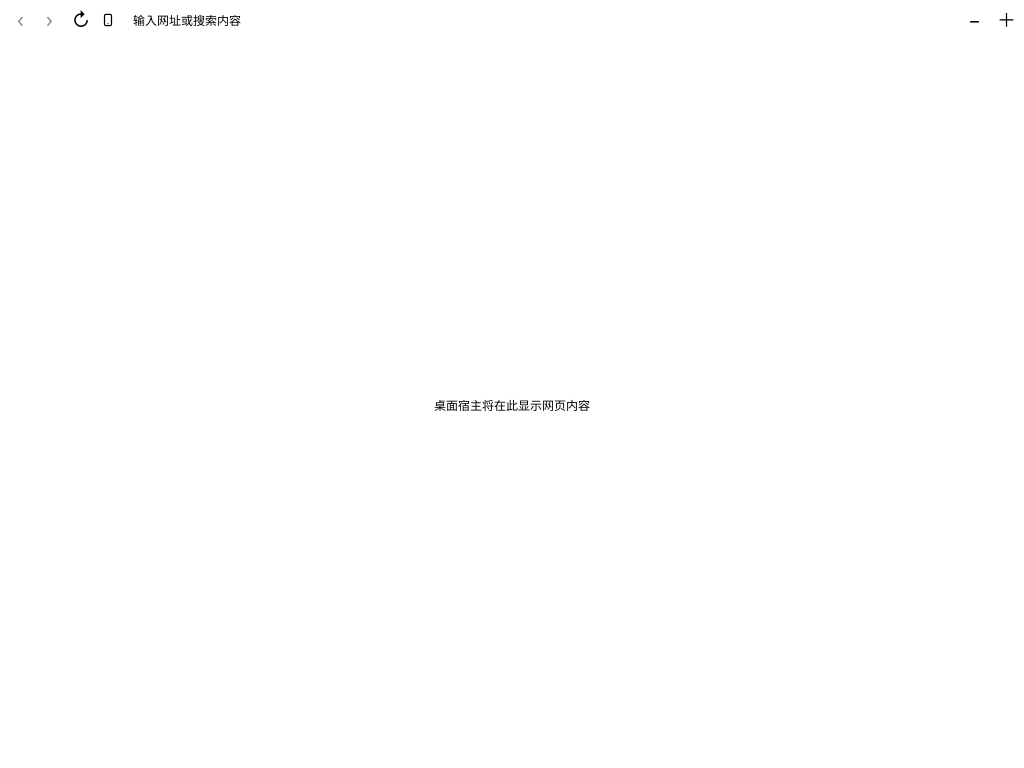
Scenario: BrowserPanel › dismisses a floating operation error and re-shows it when the failure re-occurs
Click the button named "刷新" at {"x": 78, "y": 20}, box x1=66 y1=8 x2=91 y2=33
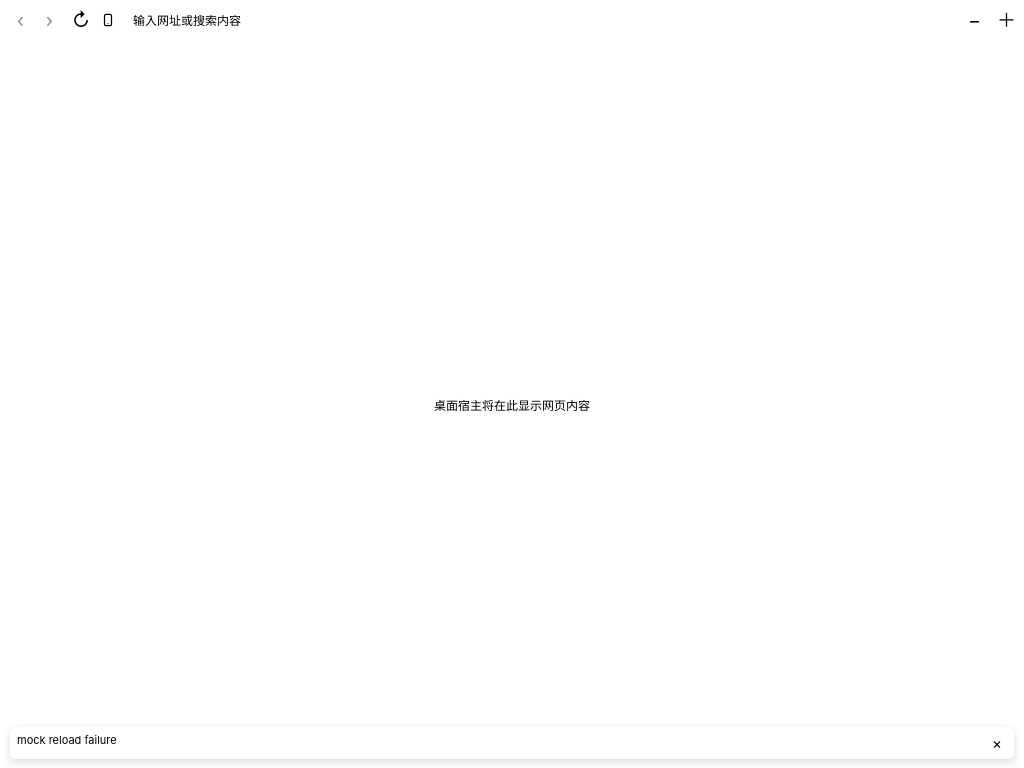
Result: the message shows "mock reload failure" at x1=17 y1=733 x2=117 y2=747
Result: the button named "关闭错误提示" is shown
Click the button named "关闭错误提示" at {"x": 997, "y": 743}, box x1=987 y1=733 x2=1007 y2=753
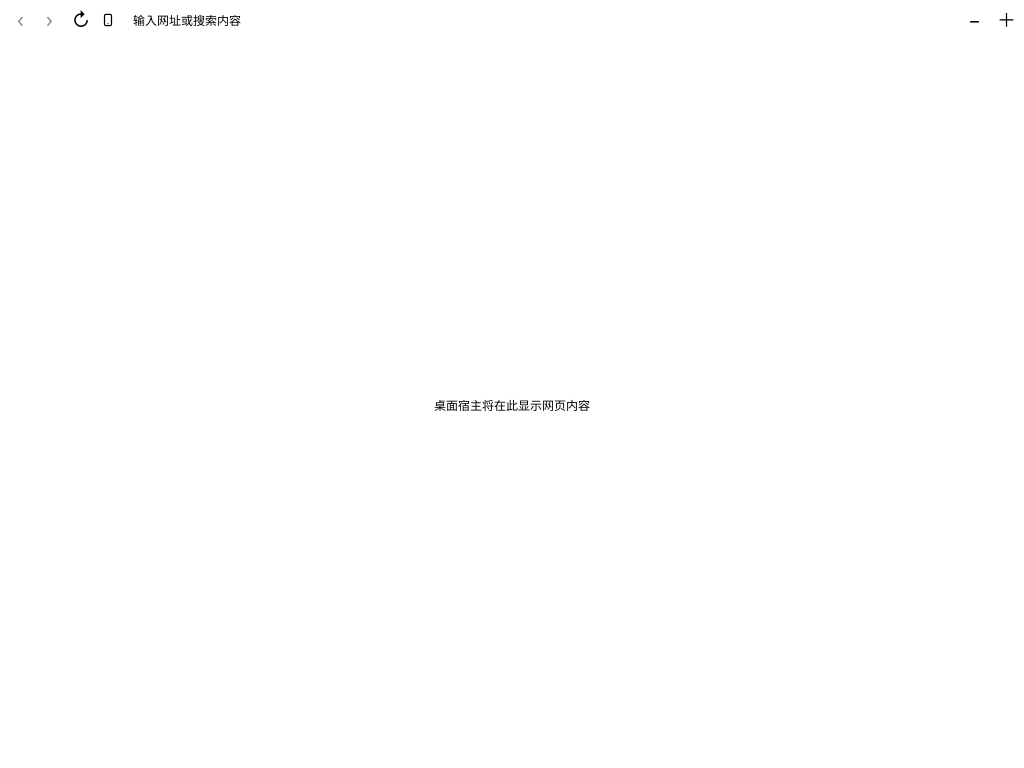
Result: the message "mock reload failure ×" is gone
Click the button named "刷新" at {"x": 78, "y": 20}, box x1=66 y1=8 x2=91 y2=33
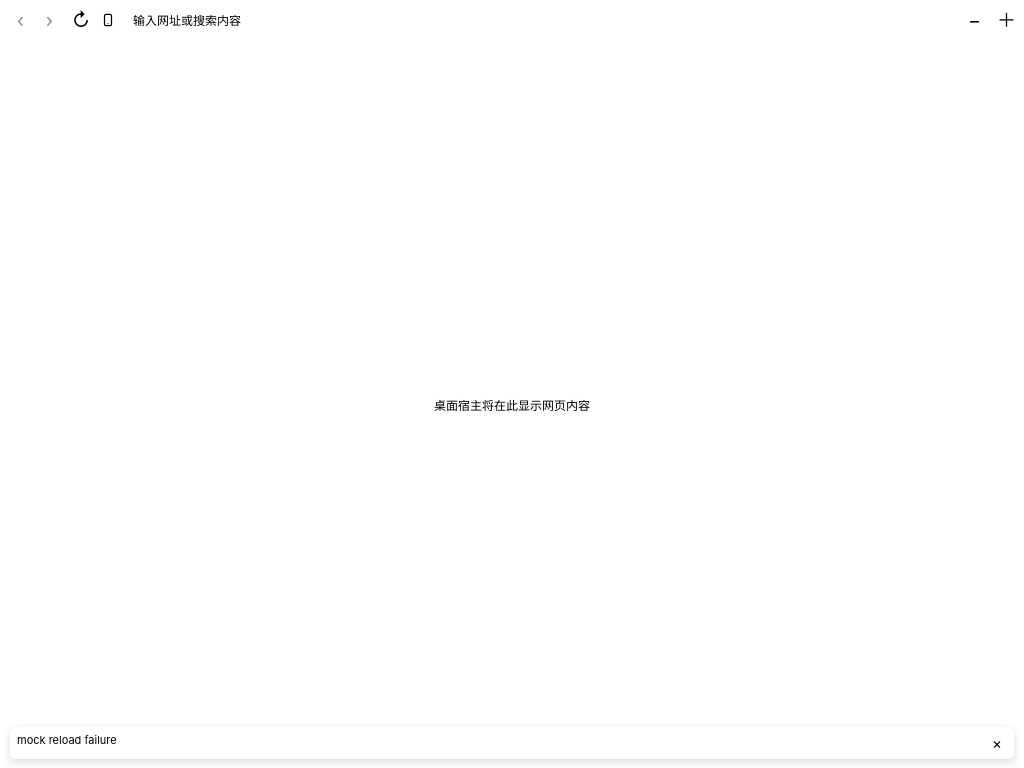
Result: the message "mock reload failure ×" is shown at x1=10 y1=727 x2=1014 y2=759
Result: the message shows "mock reload failure" at x1=17 y1=733 x2=117 y2=747
